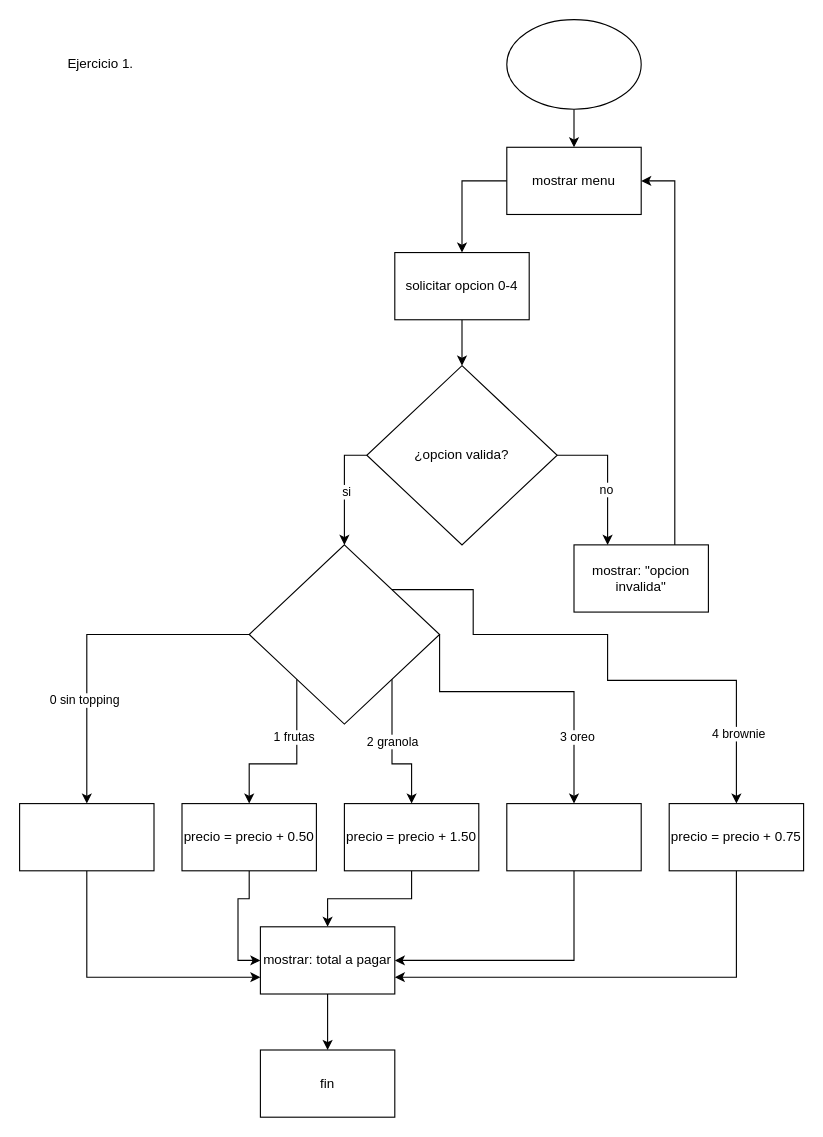
Image size: 823x1137. Some labels were removed from this diagram. The shapes that lost their labels are listed below. From the top down, each one's centre as x and y in pixels, then its label:
the point at 573,63: Inicio
the point at 344,634: ¿que opcion selecciono?
the point at 86,836: no modificar precio
the point at 573,836: precio = precio + 1
